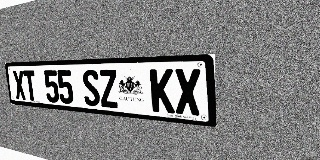5: (57, 70, 74, 104), (43, 70, 60, 103)
K: (150, 69, 175, 113)
S: (81, 70, 101, 107)
T: (23, 70, 38, 101)
X: (174, 69, 201, 116), (12, 70, 26, 100)
Z: (98, 69, 119, 108)
